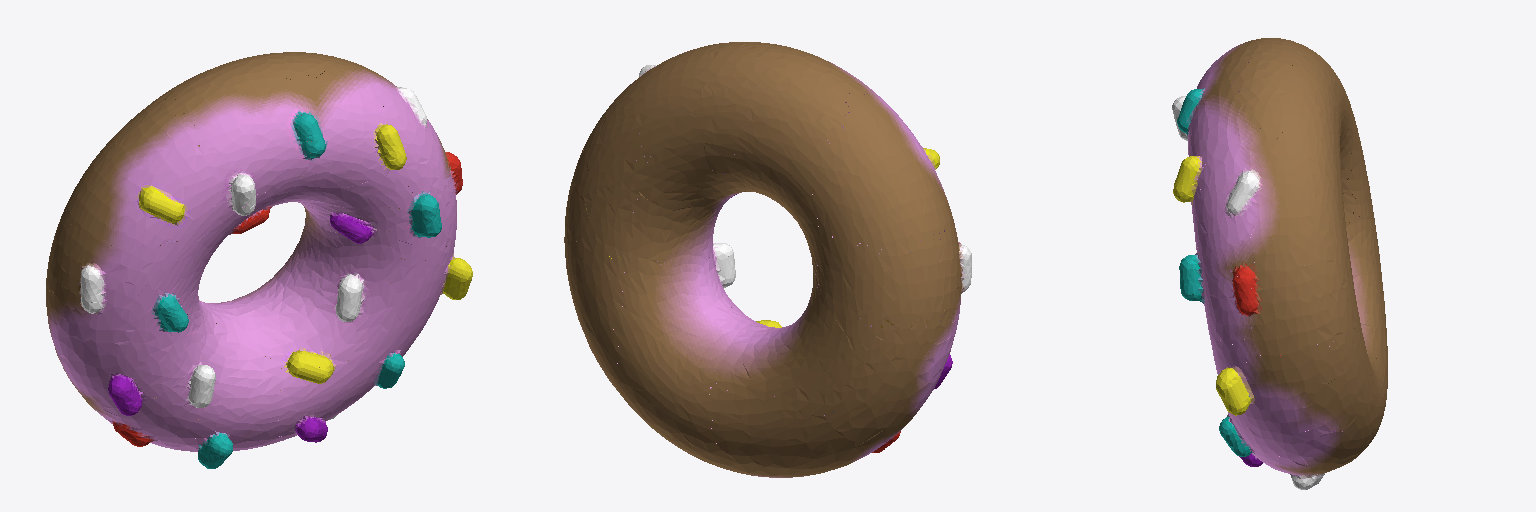
The picture shows the model from 3 angles: view 1: azimuth 30°, elevation 25°; view 2: azimuth 150°, elevation 25°; view 3: azimuth 270°, elevation 25°; orthographic projection.
Visible parts, largest first — view 1: Layer_1; view 2: Layer_1; view 3: Layer_1.
Boxes of the visible parts, x1=… form: Layer_1: x1=46, y1=52, x2=472, y2=468; Layer_1: x1=564, y1=42, x2=971, y2=477; Layer_1: x1=1172, y1=38, x2=1387, y2=489.
Size of the model in its own units: 0.1303 by 0.1289 by 0.0637.
1 materials, 1 textured.